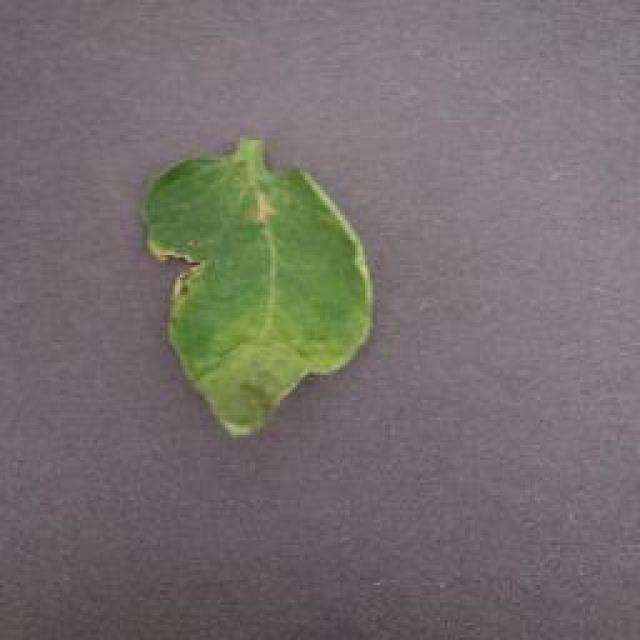Tomato_Late_Blight: (138, 183, 275, 306)
